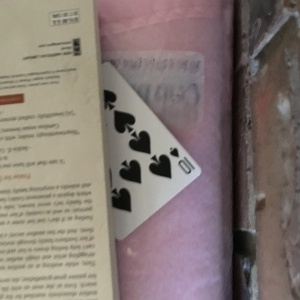card: (97, 59, 202, 241)
